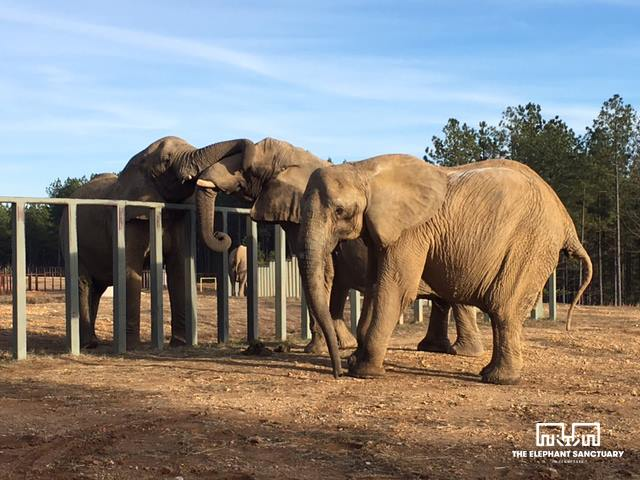elephant: (300, 148, 596, 389), (195, 137, 490, 373), (36, 128, 255, 349)
